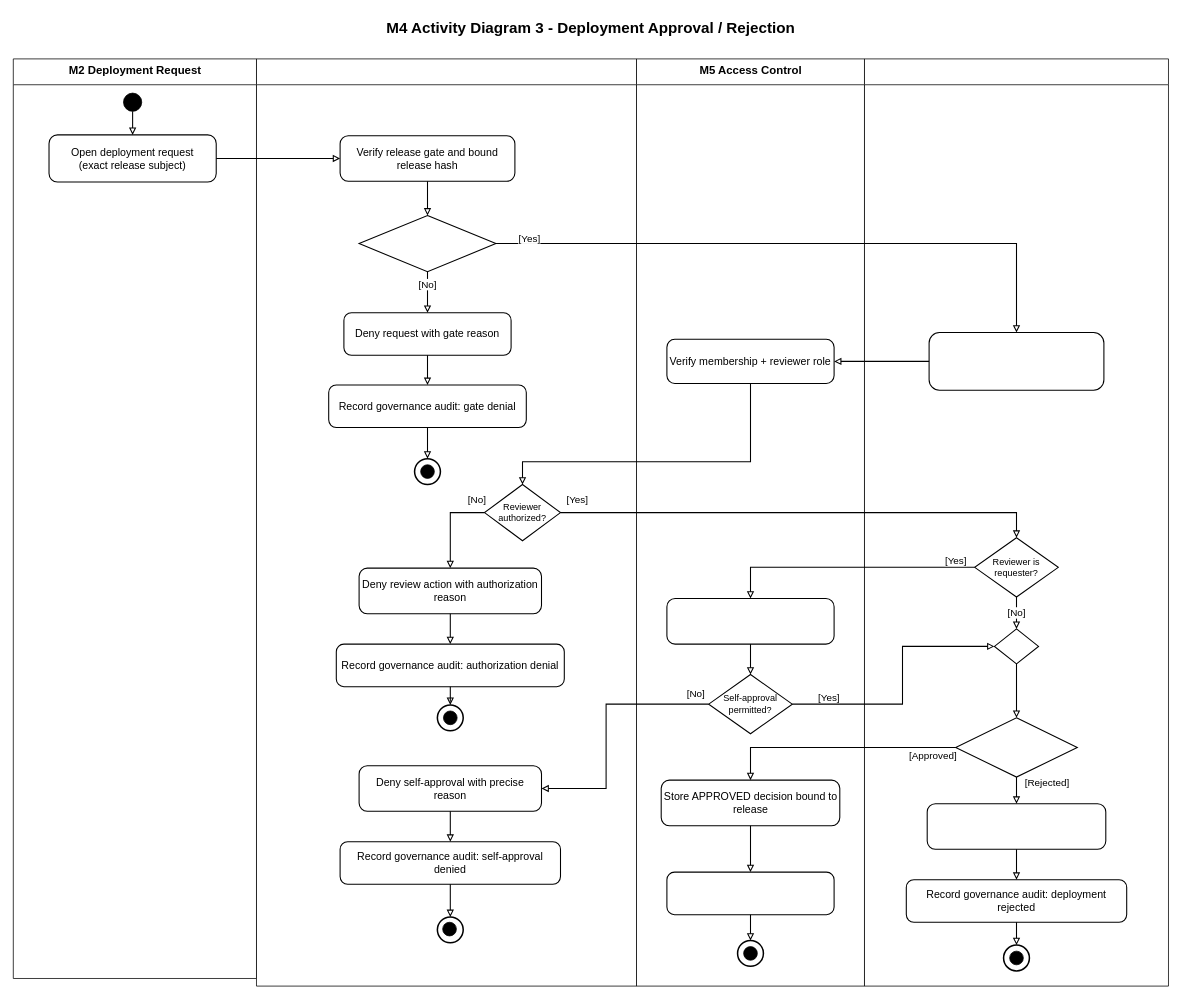
Some shapes in this 1182 by 999 pixel diagram are drawn without their labels. Here are the shapes that lost their labels. From the top down, the box of each, then its label:
(358, 215, 496, 272): Release gate eligible?
(928, 332, 1104, 390): Review evidence snapshot: run, findings, policy decision, target
(256, 58, 636, 986): M4 Governance Gate
(864, 58, 1168, 986): Reviewer / Approver
(666, 598, 834, 644): Check workspace self-approval privilege
(955, 717, 1077, 777): Reviewer decision?
(926, 803, 1106, 849): Store REJECTED decision + reviewer reason
(666, 871, 834, 915): Record governance audit: deployment approved
